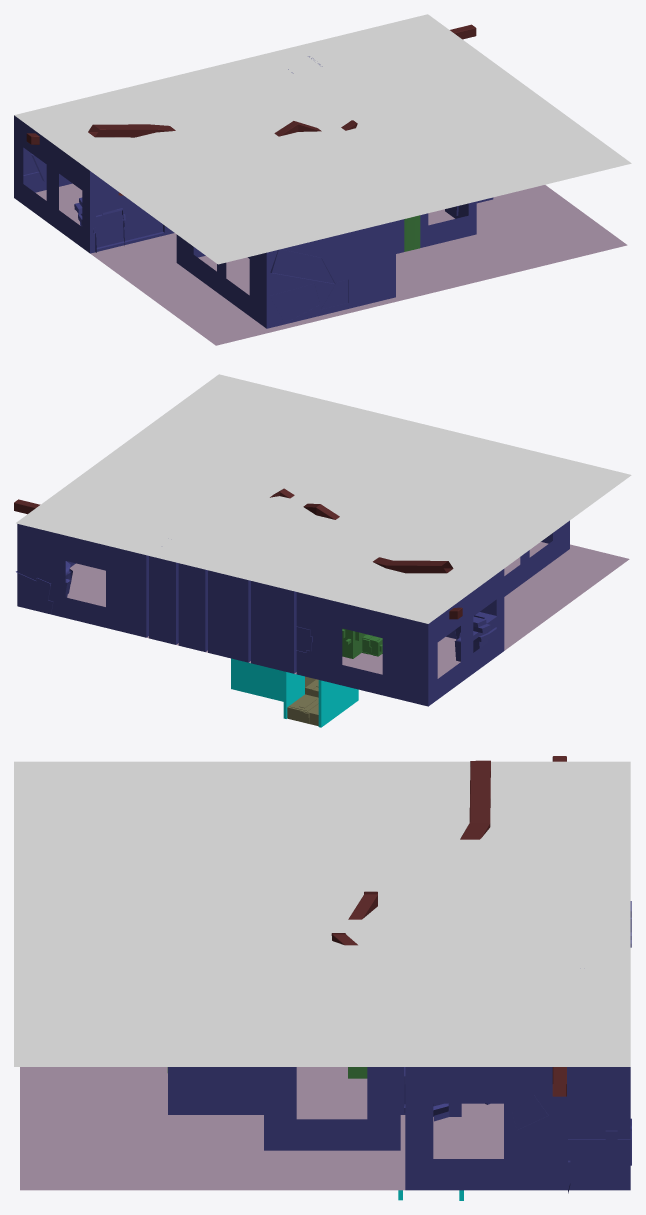
Rendered from Nivel_2_Techo.fbx.
3 views of the same model, one above another, from view 1: azimuth 30°, elevation 25°; view 2: azimuth 150°, elevation 25°; view 3: azimuth 270°, elevation 25° (orthographic). The views are drawn at different scales.
Visible parts, largest first — view 1: Techo1, PAREDES, PISO, polySurface136, Protuberancia_10, polySurface135; view 2: Techo1, PAREDES, PISO, ESCALERA, polySurface136, Protu_Pared_1, Protuberancia_2; view 3: Techo1, PISO, PAREDES, polySurface136, polySurface135.
Boxes of the visible parts, bbox=[...] form: Techo1: bbox=[14, 14, 631, 264]; PAREDES: bbox=[14, 56, 493, 328]; PISO: bbox=[35, 183, 627, 345]; polySurface136: bbox=[26, 24, 476, 195]; Protuberancia_10: bbox=[404, 215, 420, 251]; polySurface135: bbox=[274, 120, 357, 136]; Techo1: bbox=[16, 374, 631, 623]; PAREDES: bbox=[17, 520, 569, 706]; PISO: bbox=[67, 542, 629, 678]; ESCALERA: bbox=[231, 658, 358, 727]; polySurface136: bbox=[14, 499, 462, 619]; Protu_Pared_1: bbox=[454, 612, 496, 661]; Protuberancia_2: bbox=[342, 628, 366, 658]; Techo1: bbox=[14, 761, 630, 1066]; PISO: bbox=[20, 1067, 503, 1190]; PAREDES: bbox=[168, 1067, 630, 1190]; polySurface136: bbox=[460, 756, 566, 1096]; polySurface135: bbox=[331, 891, 377, 945].
Size of the model in its own units: 16.53 by 6.53 by 13.16.
